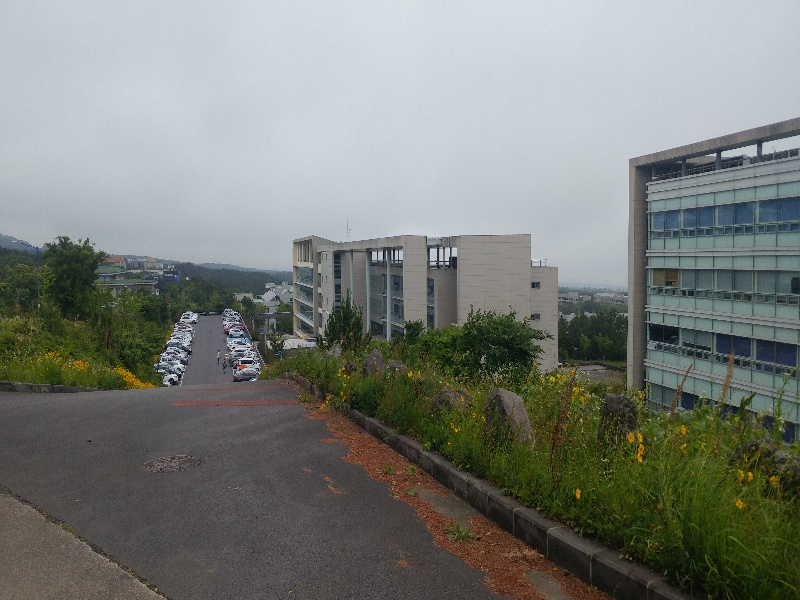College of Marine Science: (632, 145, 796, 424)
Engineering College Building 4: (293, 225, 562, 374), (304, 241, 555, 323)
